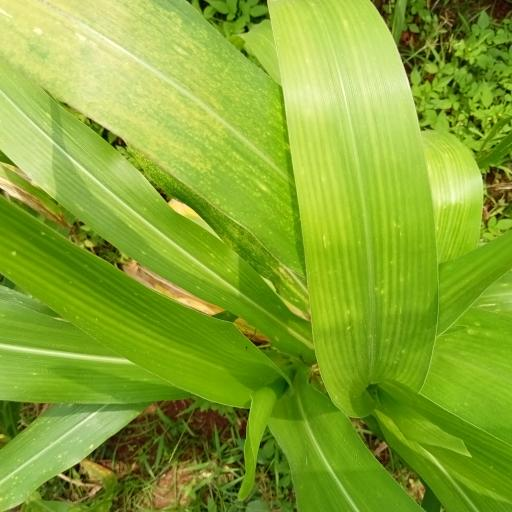Corn_Brown_Spots: (5, 0, 444, 370)
